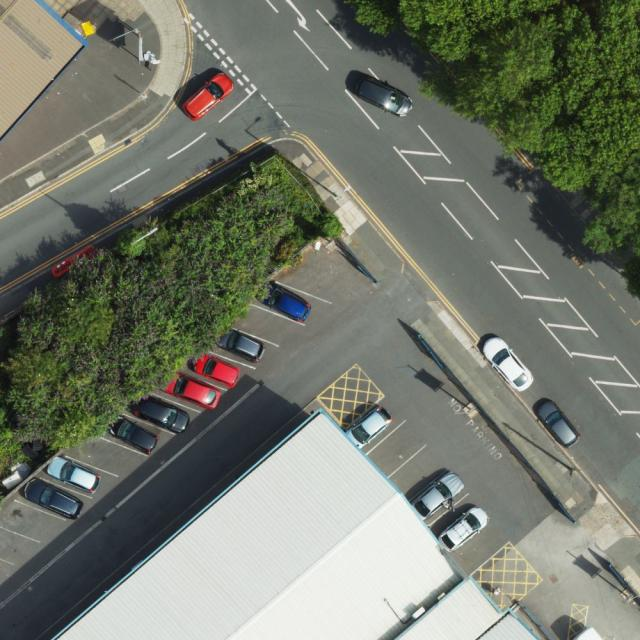roof: (54, 410, 539, 640)
